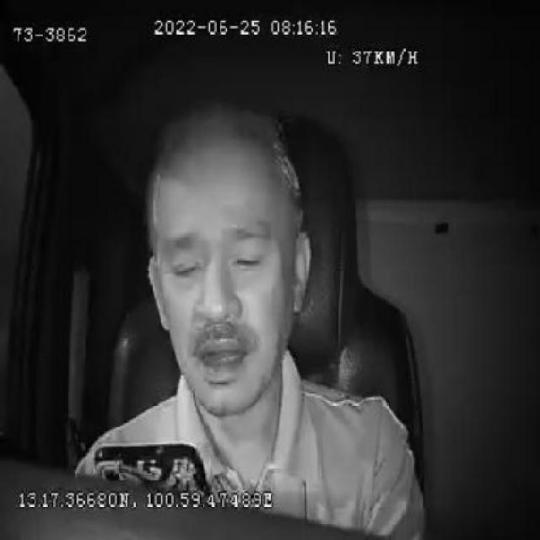phone: (92, 437, 209, 489)
